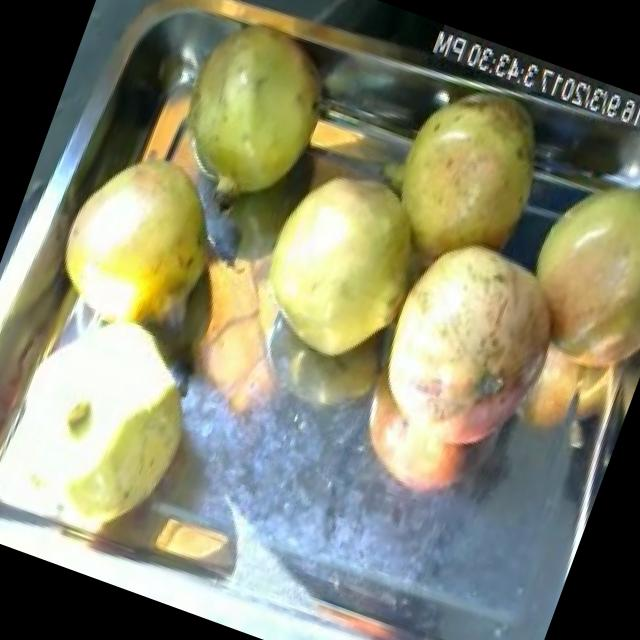fruit: (346, 206, 598, 492), (0, 272, 238, 558), (222, 134, 454, 394), (23, 115, 251, 378), (140, 0, 357, 237), (367, 61, 568, 282), (489, 140, 640, 403)
